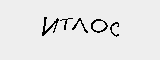И: (40, 18, 60, 35)
Л: (74, 17, 88, 34)
О: (91, 16, 108, 34)
С: (111, 21, 124, 38)
Т: (59, 15, 73, 30)
